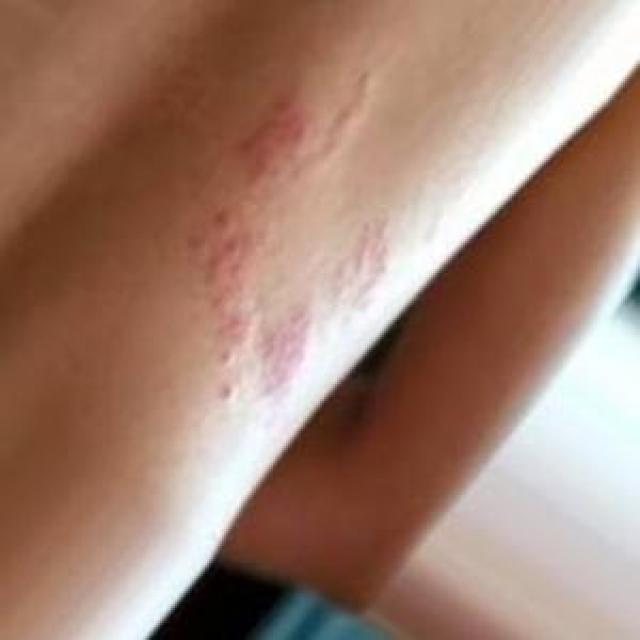Shingles: (183, 76, 390, 410)
